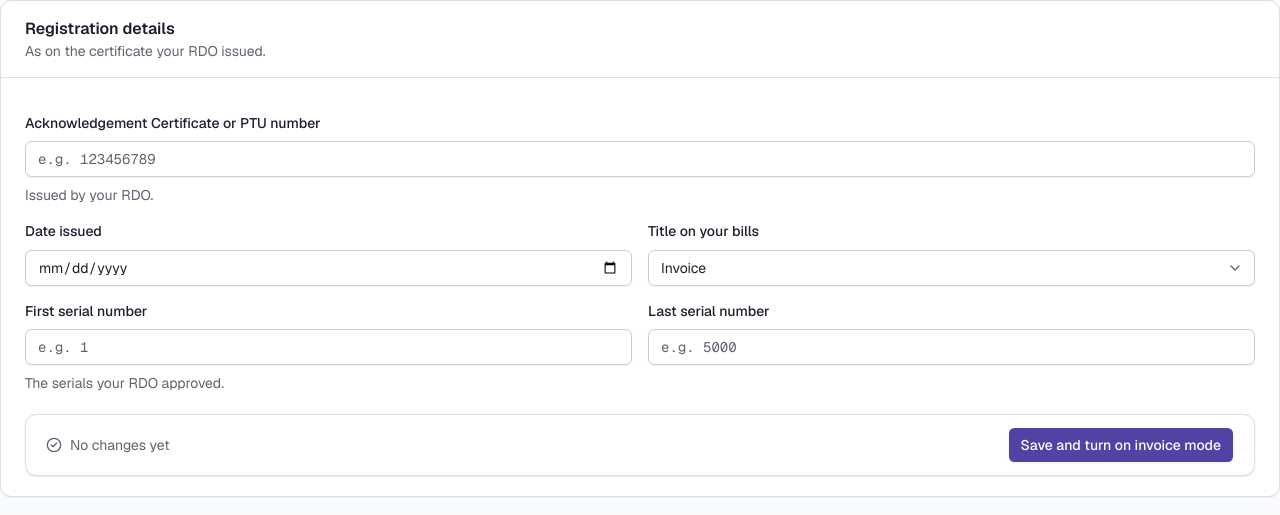
it: the invoice registration form's save bar › starts quiet, then says changes are unsaved once a field is edited
This screenshot has width=1280, height=515.
Expected: the message reads "No changes yet", left=70, top=436, right=170, bottom=454
Type "1" into the field labelled "First serial number" at (328, 347), box left=25, top=329, right=632, bottom=365
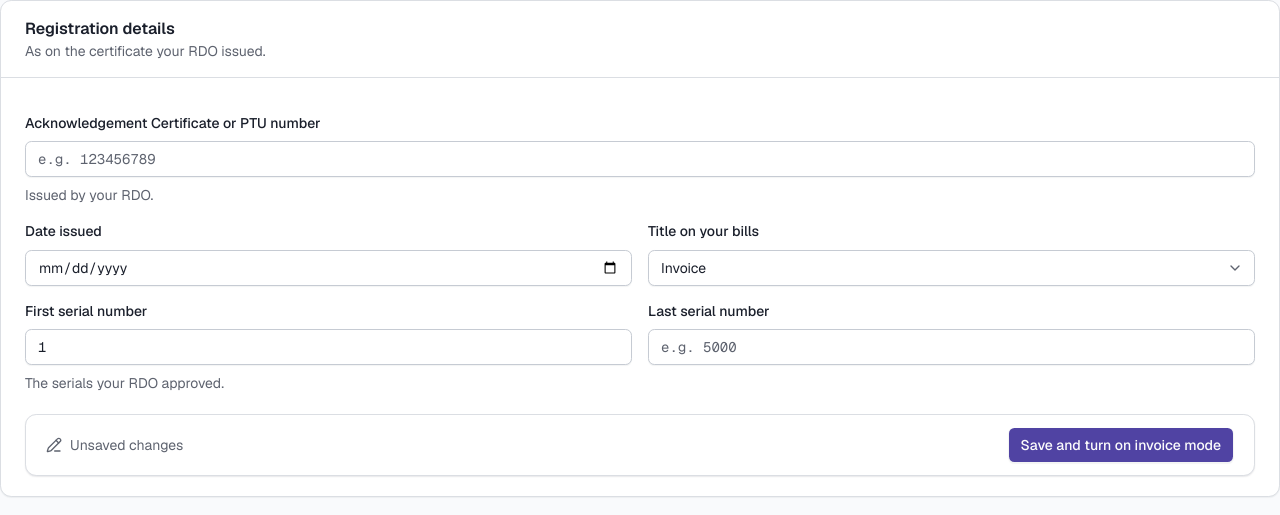
Result: the message reads "Unsaved changes" at left=70, top=436, right=183, bottom=454
